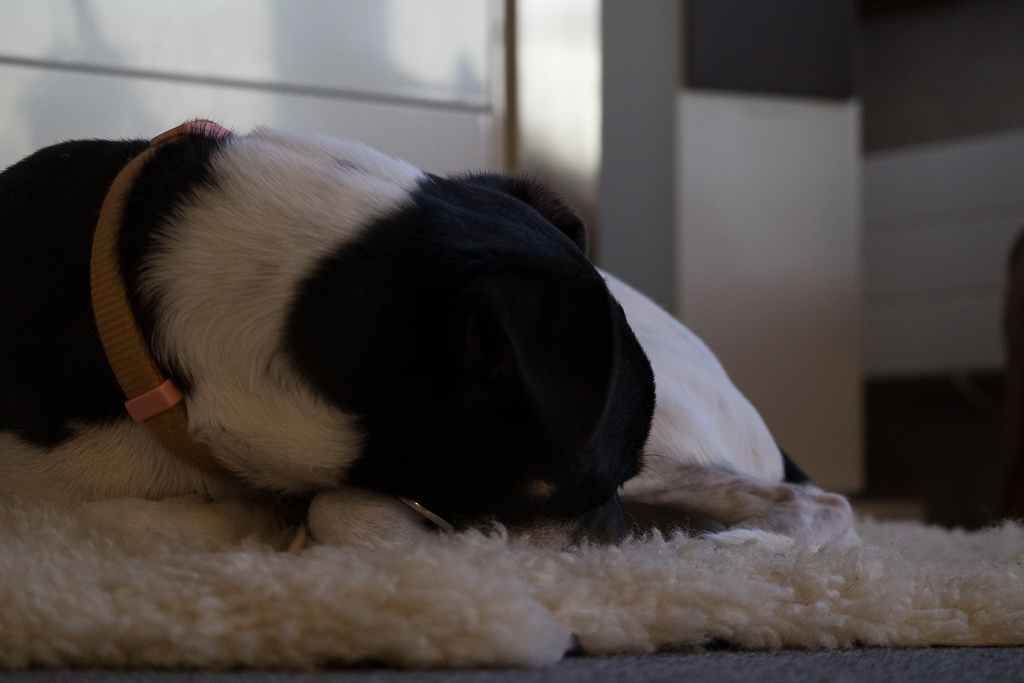Cattle: (976, 184, 1024, 536)
Dog: (0, 111, 873, 590)
